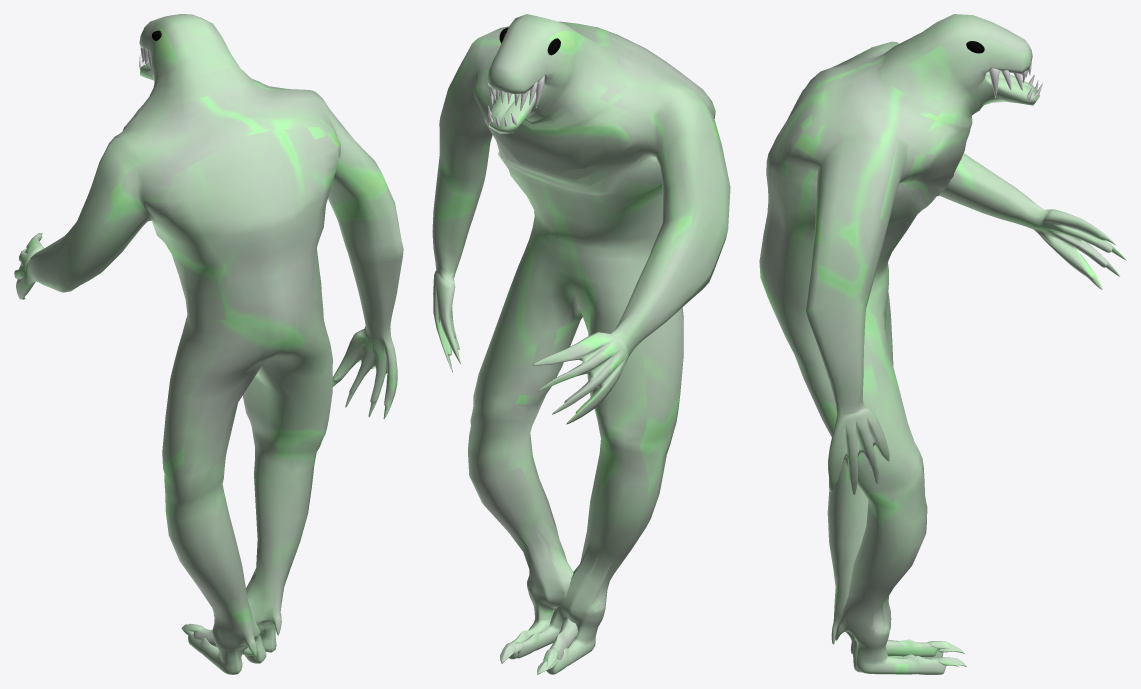
Rendered from Berserkerandar.0081.obj.
3 views of the same model, side by side, from view 1: azimuth 30°, elevation 25°; view 2: azimuth 150°, elevation 25°; view 3: azimuth 270°, elevation 25° (orthographic). The views are drawn at different scales.
Parts seen in each view (by area): view 1: polySurface27; view 2: polySurface27; view 3: polySurface27.
Boxes of the visible parts, x1=… form: polySurface27: x1=14, y1=14, x2=403, y2=674; polySurface27: x1=432, y1=14, x2=730, y2=674; polySurface27: x1=759, y1=14, x2=1126, y2=674.
Size of the model in its own units: 11.86 by 23.93 by 12.3.
Materials: 1 (1 with a texture image).
